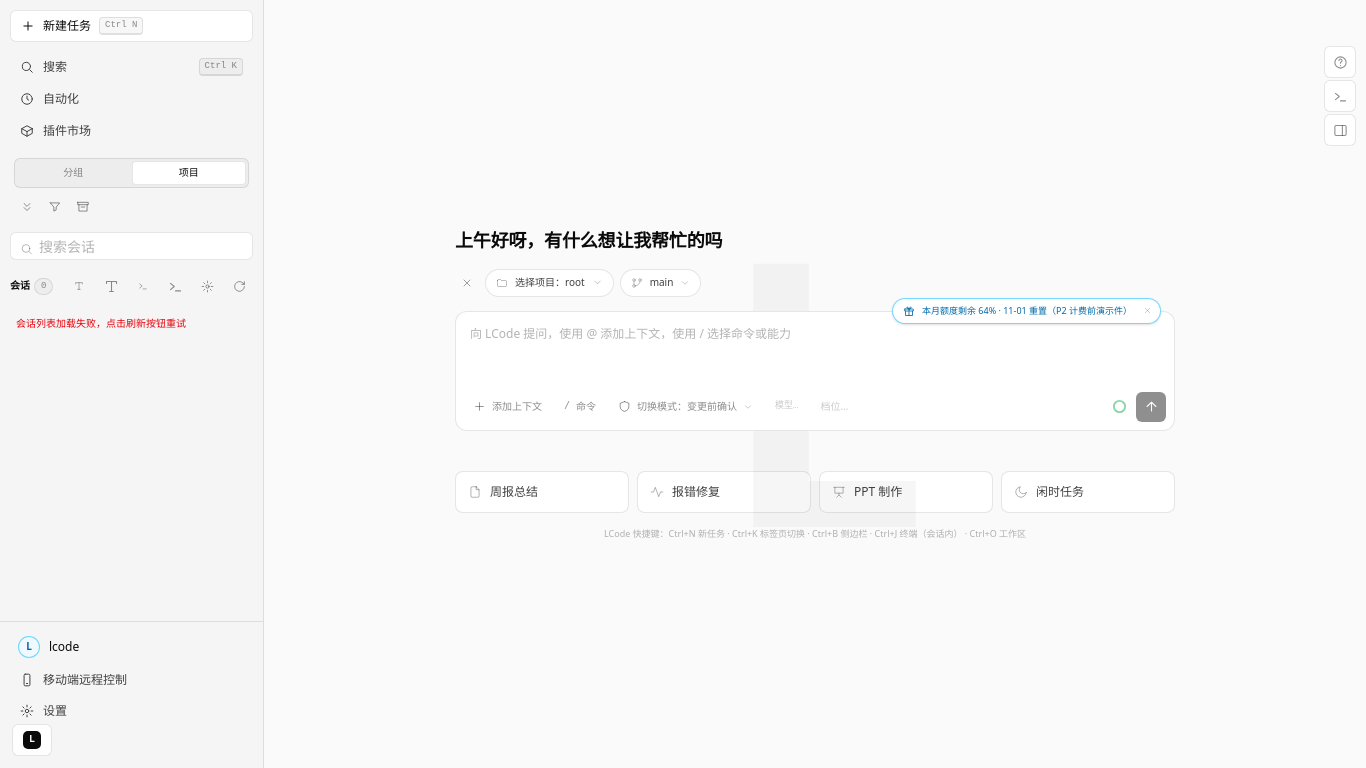
it: HomeView · 空态首页结构（B1） › 问候点击循环预览五态（原型 demo 交互的 React 等价实现）
Step 1. Click the button with test id "home-greet" → click(589, 240), box [455, 227, 1175, 255]
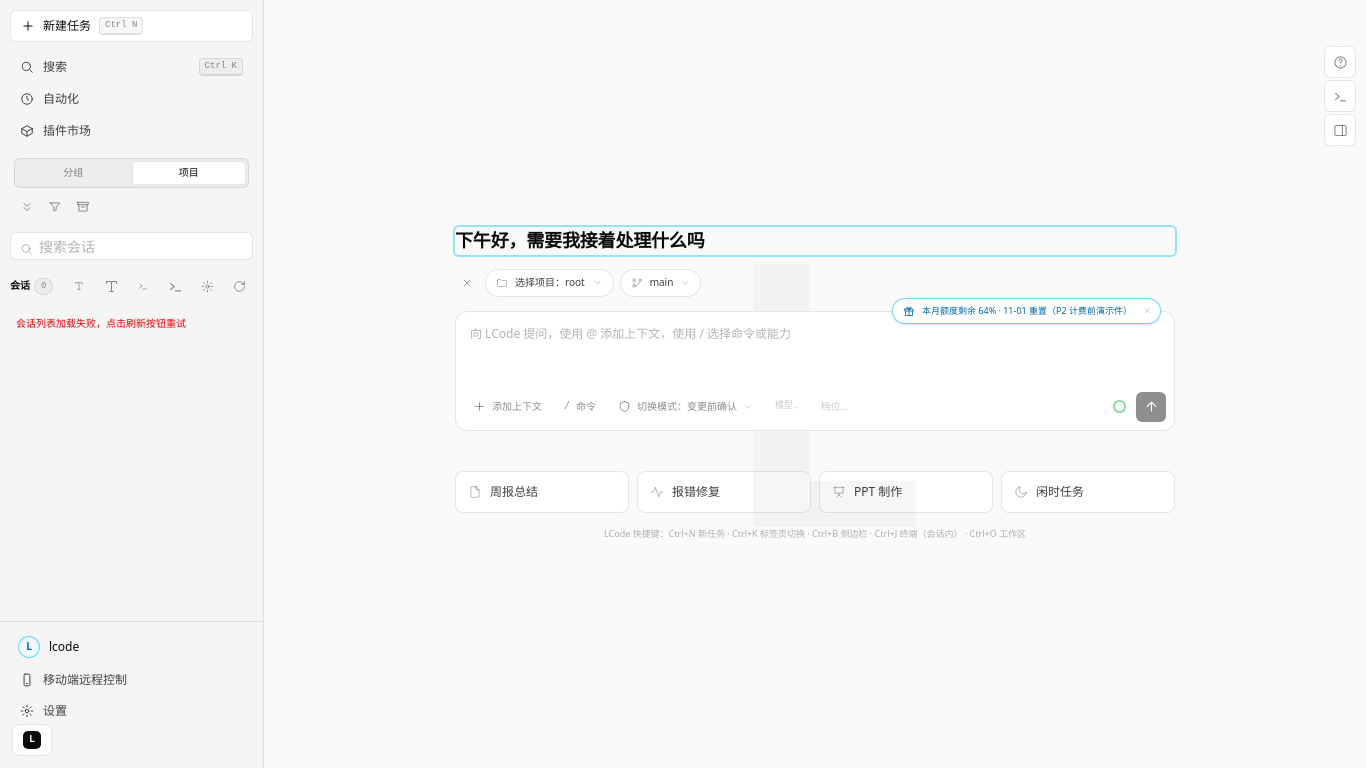
Check: the button with test id "home-greet" reads "下午好，需要我接着处理什么吗", box [455, 227, 1175, 255]
